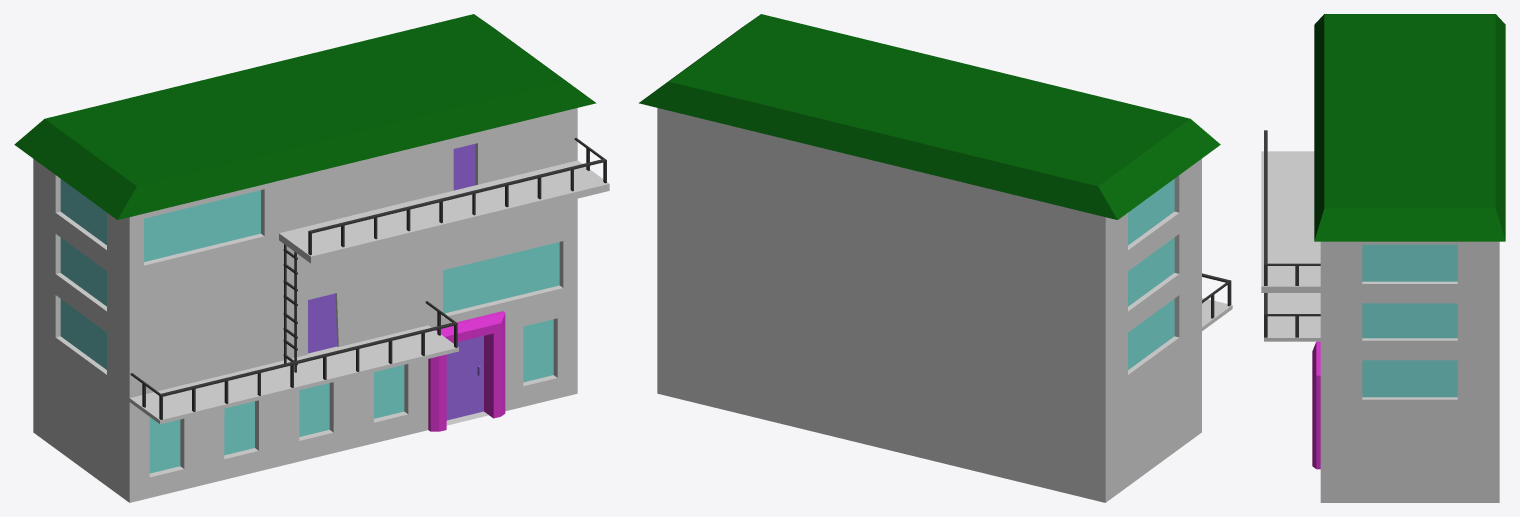
File: building 2.fbx
3 renders of one model, left to right at view 1: azimuth 30°, elevation 25°; view 2: azimuth 150°, elevation 25°; view 3: azimuth 270°, elevation 25°, orthographic. The views are drawn at different scales.
Visible parts, largest first — view 1: Cube.005; view 2: Cube.005; view 3: Cube.005.
Boxes of the visible parts, bbox=[...] form: Cube.005: bbox=[14, 14, 609, 502]; Cube.005: bbox=[639, 14, 1232, 502]; Cube.005: bbox=[1261, 14, 1505, 502].
Bounding box in the file's own units: 1646 × 1027 × 784.
